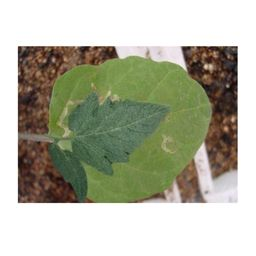liriomyza: (55, 97, 83, 139), (97, 89, 120, 105), (161, 133, 178, 154)
